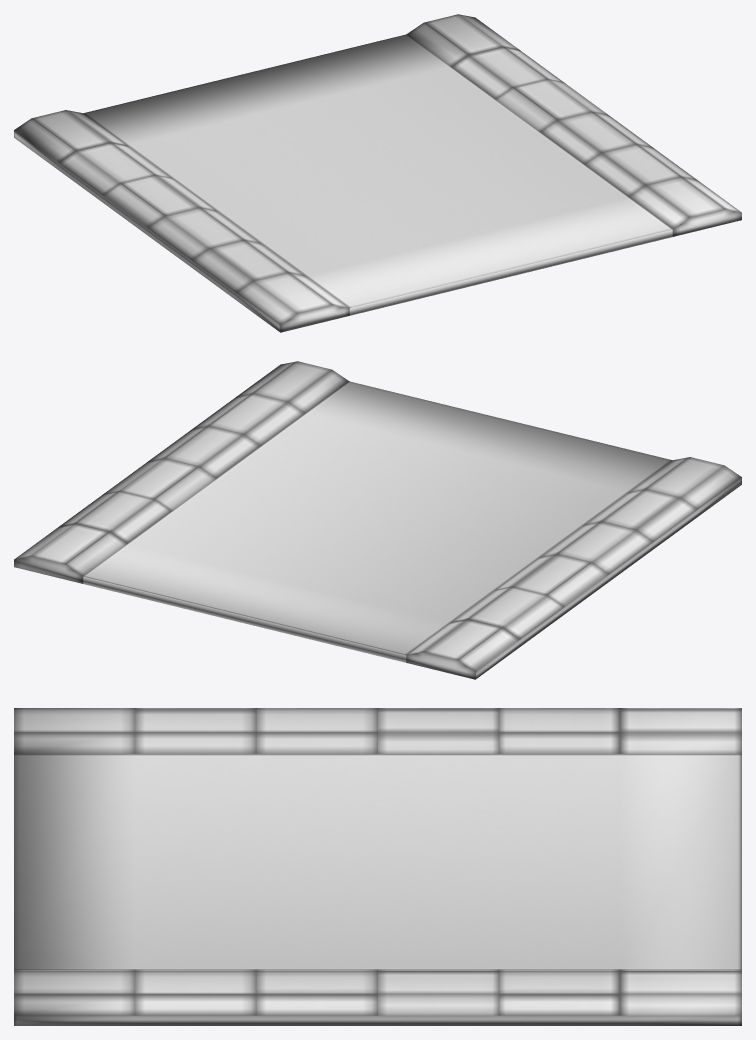
File: Track-01.fbx
3 renders of one model, top to bottom at view 1: azimuth 30°, elevation 25°; view 2: azimuth 150°, elevation 25°; view 3: azimuth 270°, elevation 25°, orthographic. The views are drawn at different scales.
Visible parts, largest first — view 1: Track-01; view 2: Track-01; view 3: Track-01.
Boxes of the visible parts, bbox=[...] form: Track-01: bbox=[14, 14, 741, 332]; Track-01: bbox=[14, 361, 741, 679]; Track-01: bbox=[14, 708, 741, 1025].
Size of the model in its own units: 2 by 0.0625 by 2.
